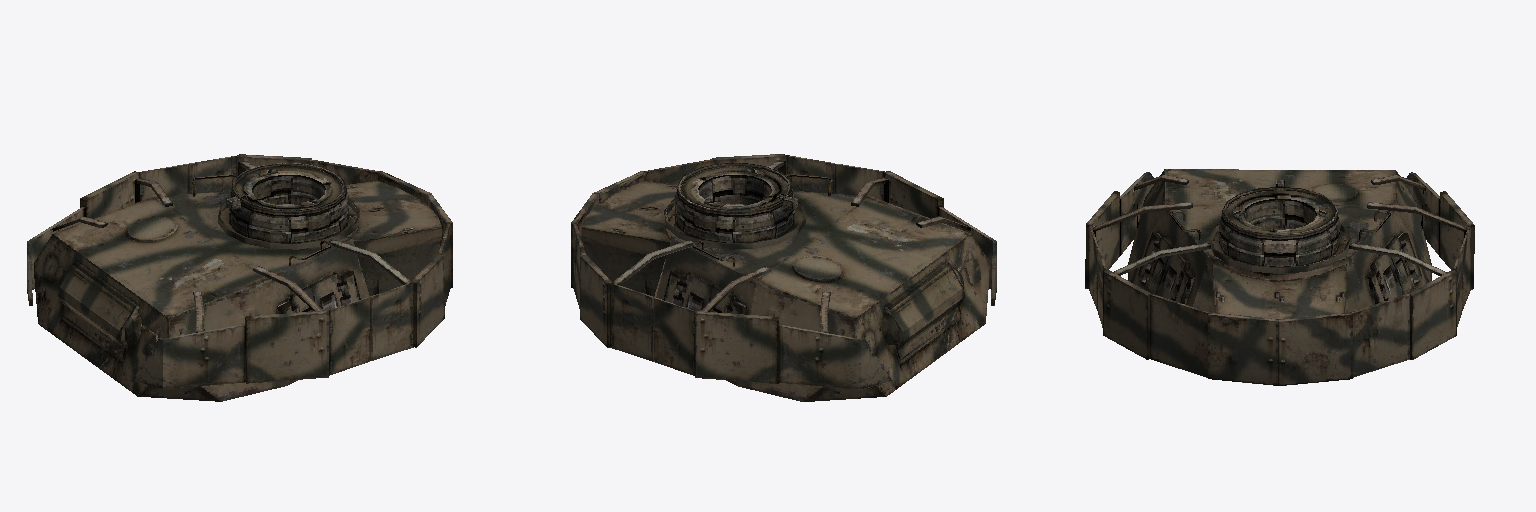
3 views of the same model, side by side, from view 1: azimuth 30°, elevation 25°; view 2: azimuth 150°, elevation 25°; view 3: azimuth 270°, elevation 25° (orthographic).
Parts seen in each view (by area): view 1: DrawCall_1_DrawCall_1.002; view 2: DrawCall_1_DrawCall_1.002; view 3: DrawCall_1_DrawCall_1.002.
Part boxes in pixels (left/top/right/bottom): DrawCall_1_DrawCall_1.002: left=27, top=154, right=452, bottom=401; DrawCall_1_DrawCall_1.002: left=571, top=154, right=996, bottom=401; DrawCall_1_DrawCall_1.002: left=1085, top=169, right=1474, bottom=385.
Bounding box in the file's own units: 5.51 × 1.91 × 5.29.
Materials: 1 (1 with a texture image).